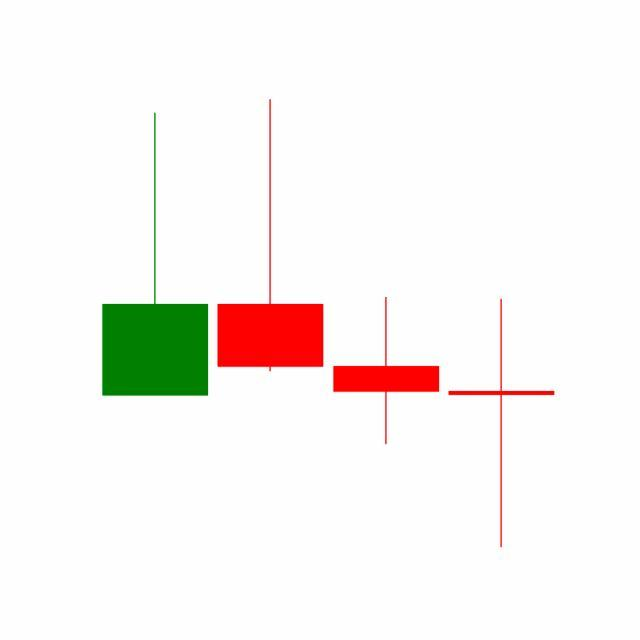Spinning Top: (329, 296, 445, 447)
